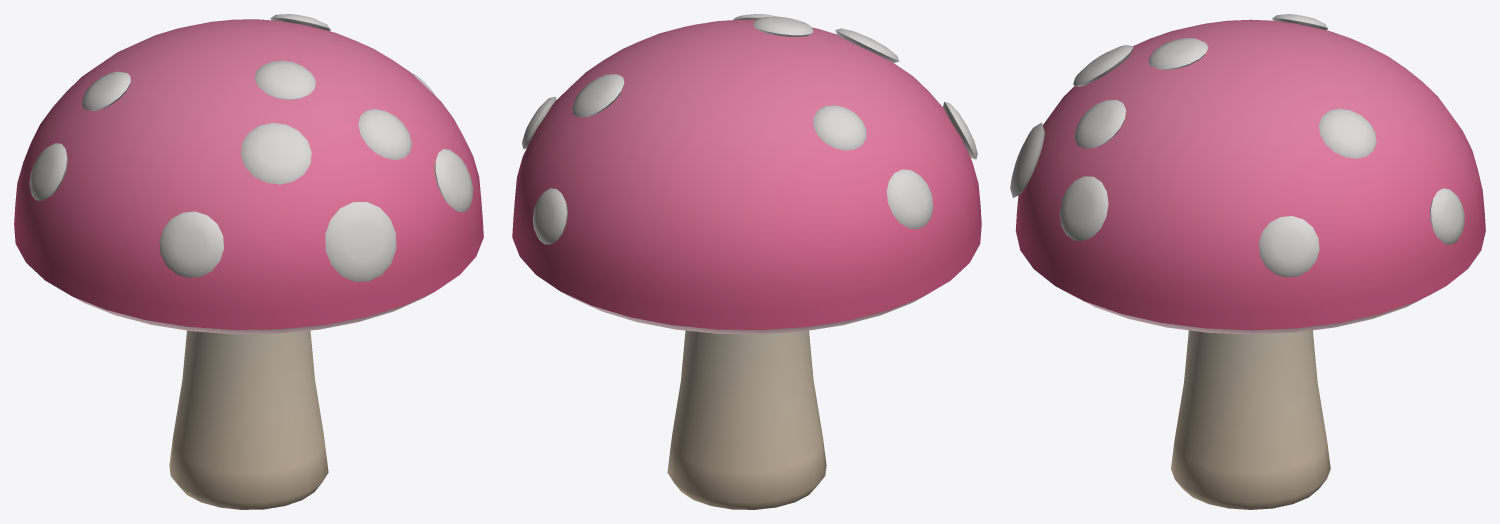
Rendered from candy_mushroom.glb.
3 renders of one model, left to right at view 1: azimuth 30°, elevation 25°; view 2: azimuth 150°, elevation 25°; view 3: azimuth 270°, elevation 25°, orthographic.
Visible parts, largest first — view 1: candy_mushroom; view 2: candy_mushroom; view 3: candy_mushroom.
Boxes of the visible parts, <box> form: candy_mushroom: <box>14,14,483,509</box>; candy_mushroom: <box>512,14,981,509</box>; candy_mushroom: <box>1010,14,1485,509</box>.
Bounding box in the file's own units: 1.97 × 2.01 × 1.99.
